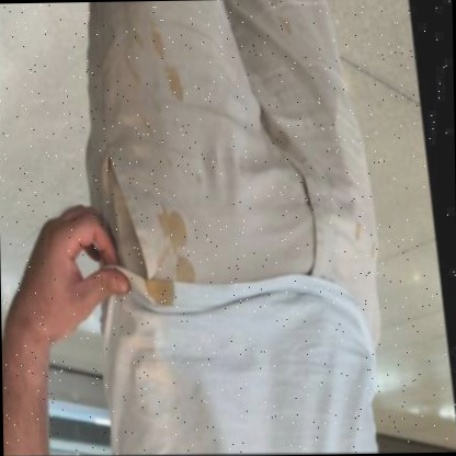coffee: (144, 279, 174, 307), (162, 212, 184, 244), (175, 256, 193, 284), (167, 69, 183, 96), (155, 33, 163, 54)
